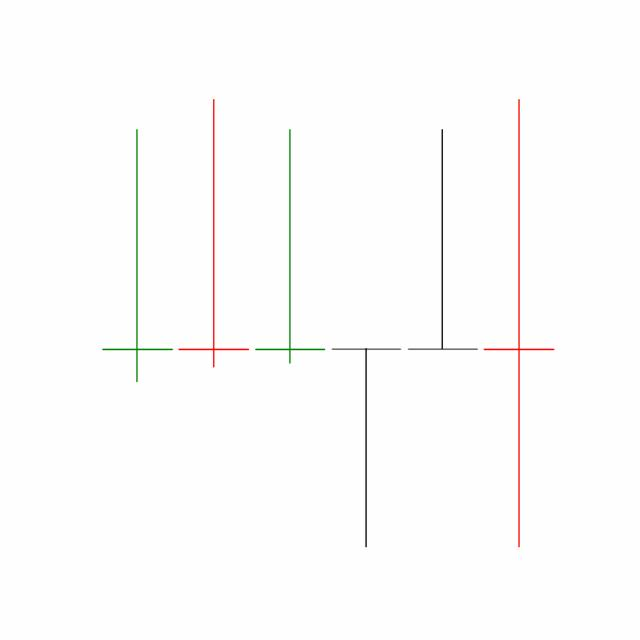Gravestone Doji: (403, 126, 481, 352)
